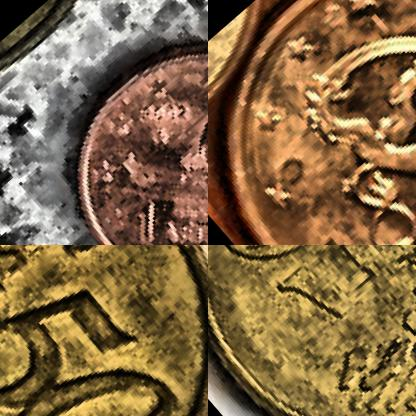coin: (208, 0, 415, 244), (20, 0, 207, 244), (0, 245, 207, 415), (208, 245, 415, 415)
